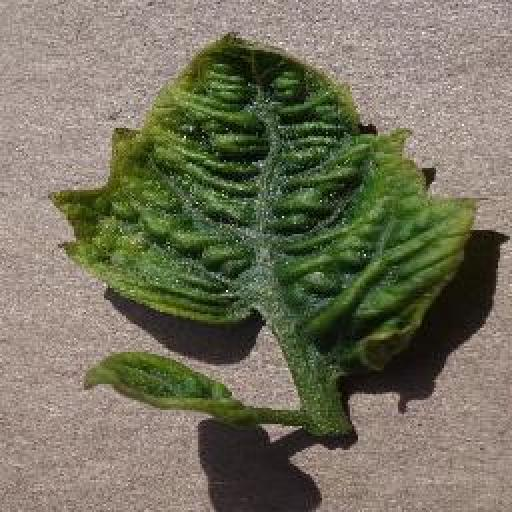disease_tomato: (44, 28, 478, 382), (81, 344, 243, 426)
